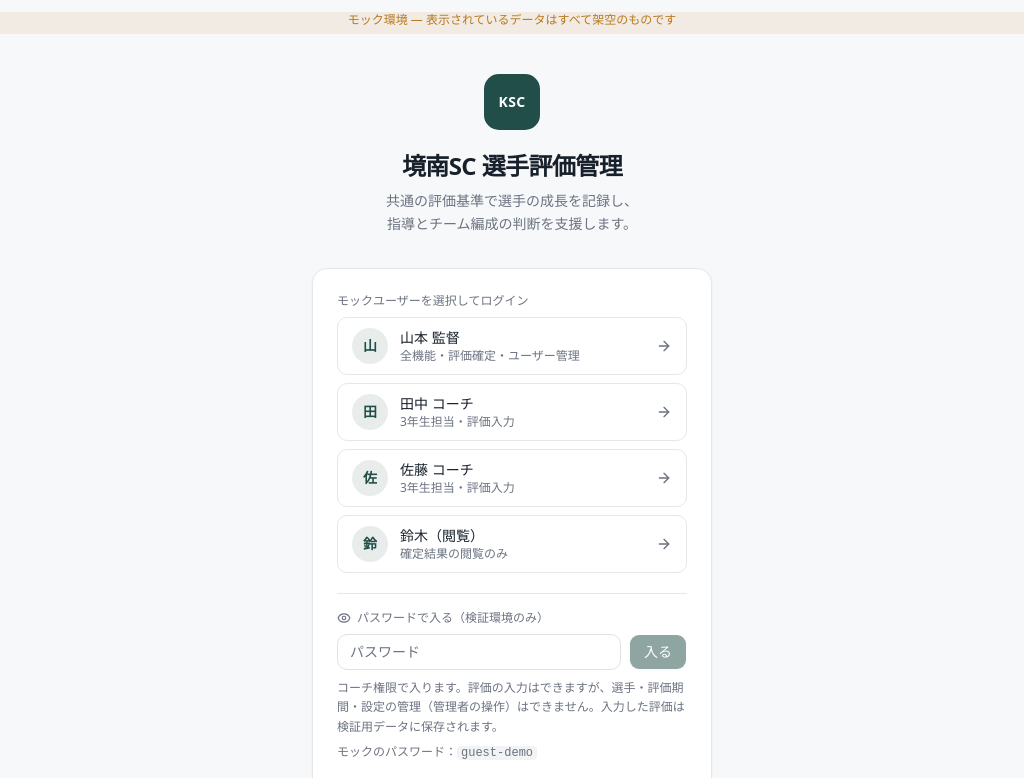
Test: パスワード入場（検証環境のみ） › 誤ったパスワードでは入れず、エラーを表示する
Type "まちがい-password" into the password field with placeholder "パスワード". click: [479, 652]
box: [337,634,621,670]
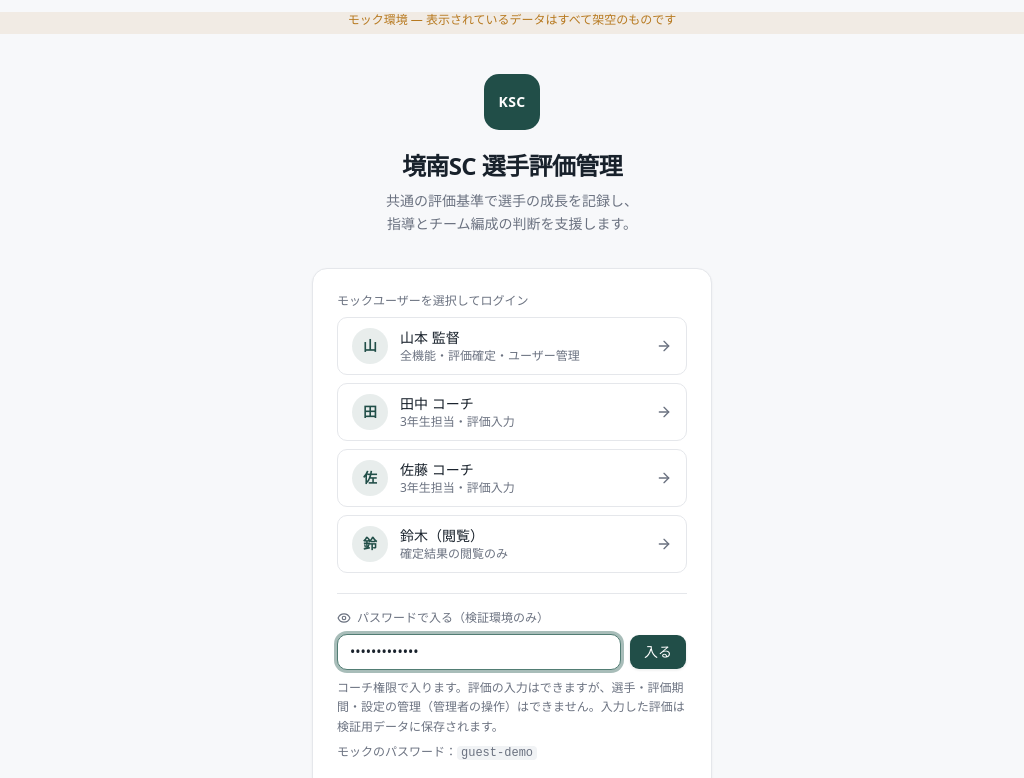
Click the button "入る". click: [658, 652]
box: [629,634,687,670]
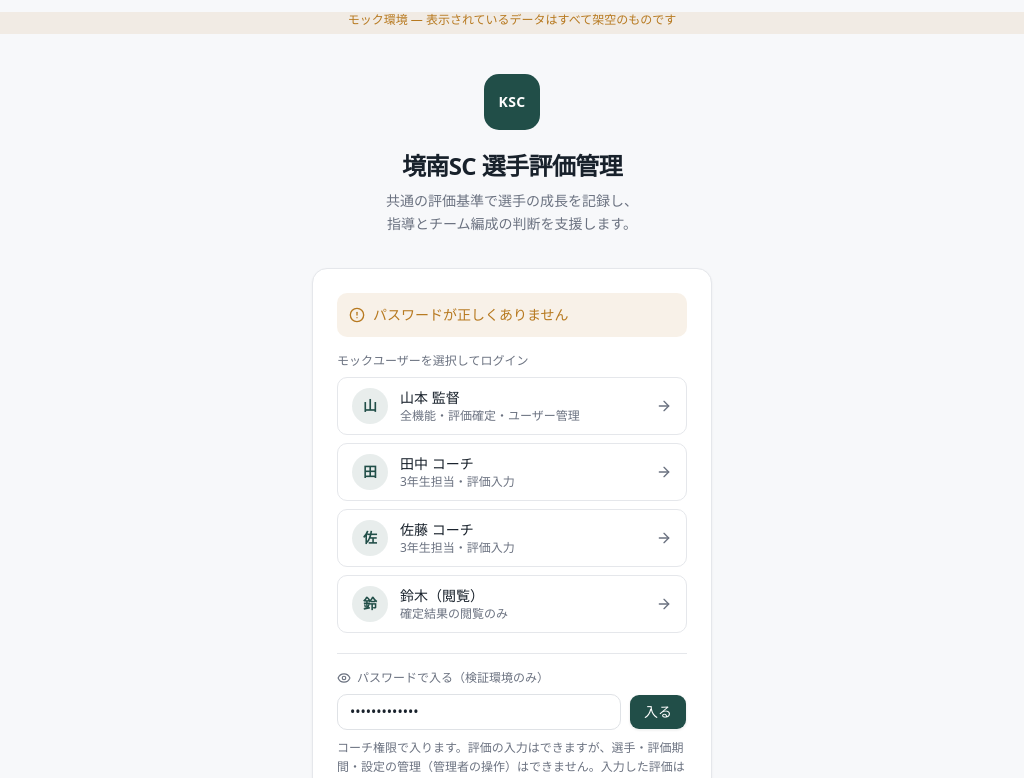
Expected: the message reads "パスワードが正しくありません", [373,304,569,324]
